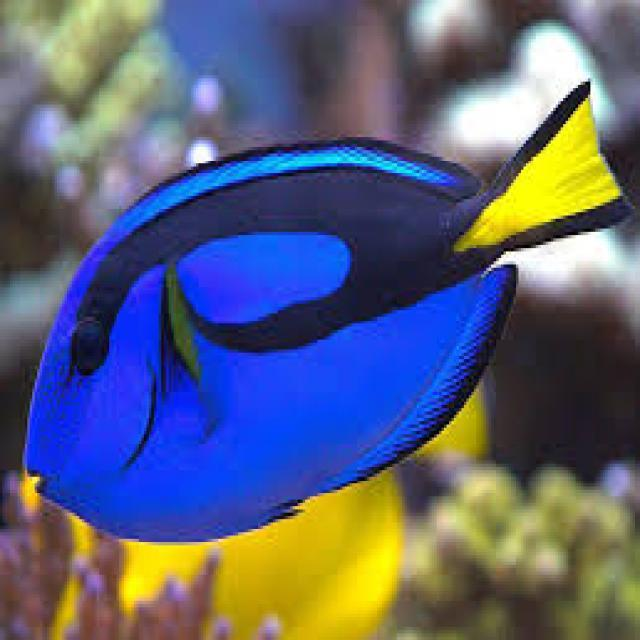TangFish: (23, 76, 629, 547)
